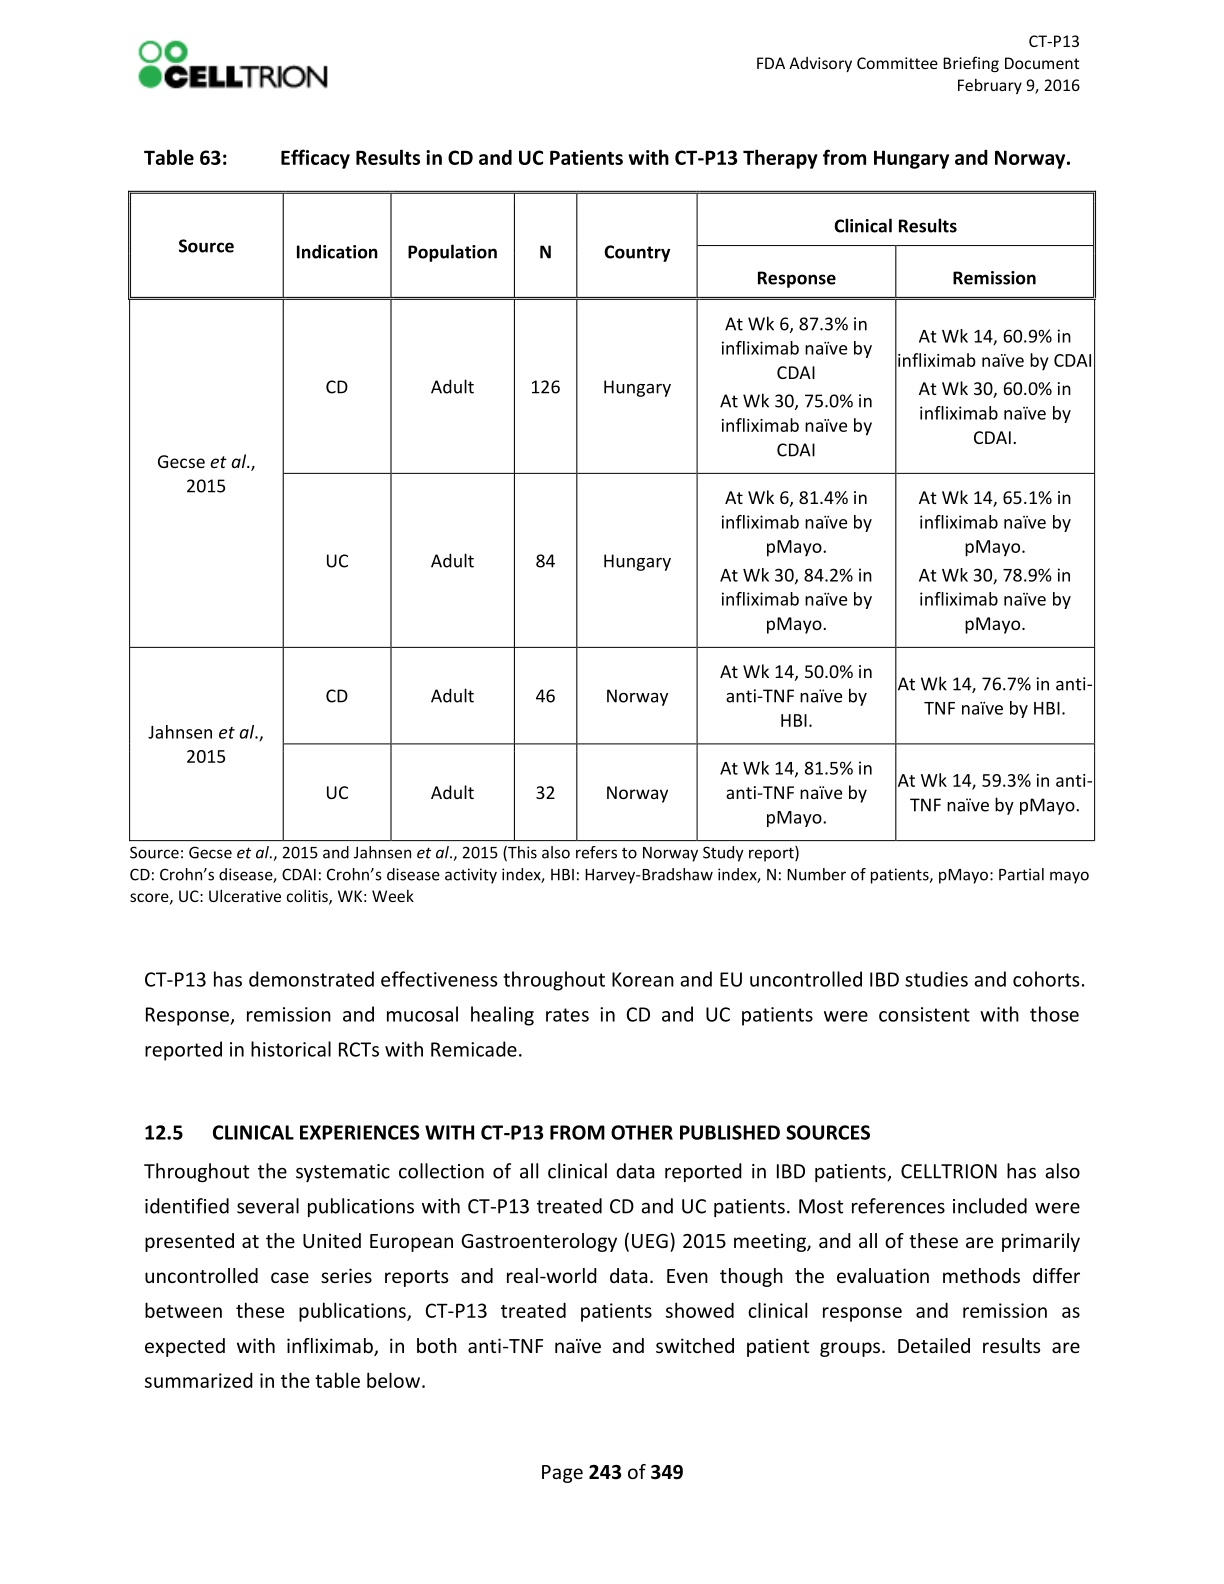merged_cells: (126, 189, 1095, 841)
